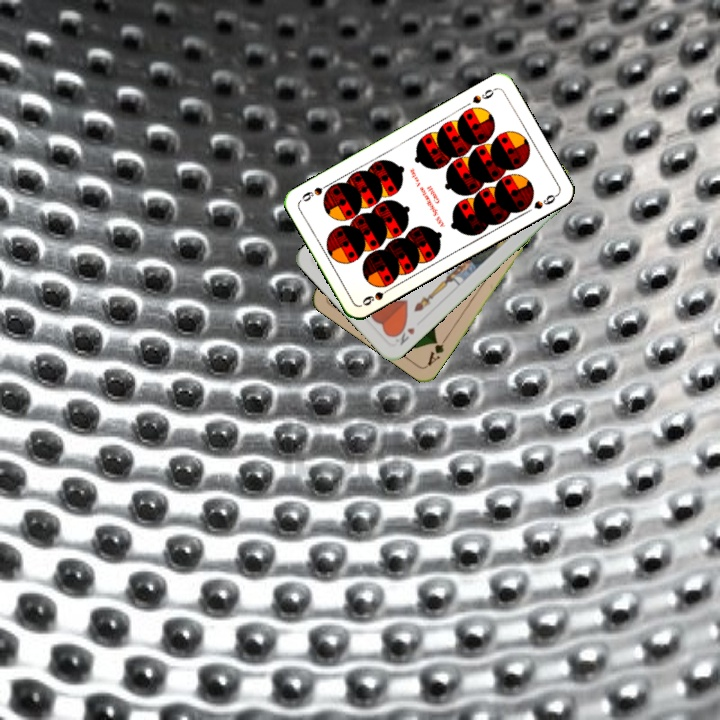GA: (423, 332, 450, 368)
HK: (388, 321, 418, 348)
S9: (358, 283, 395, 308), (468, 84, 499, 106)
